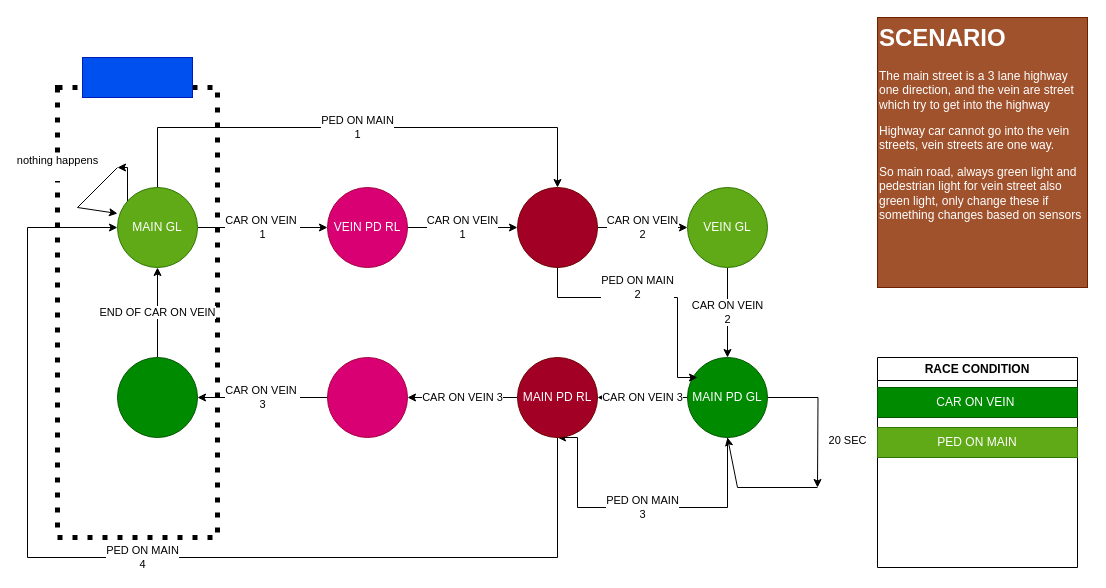
Some shapes in this 1106 by 588 pixel diagram are drawn without their labels. Each missing label, with the centre of its shape:
"MAIN RL" belongs at point (557, 227).
"STABLE STATE" belongs at point (137, 77).
"VEIN PD GL" belongs at point (157, 397).
"VEIN RL" belongs at point (367, 397).
